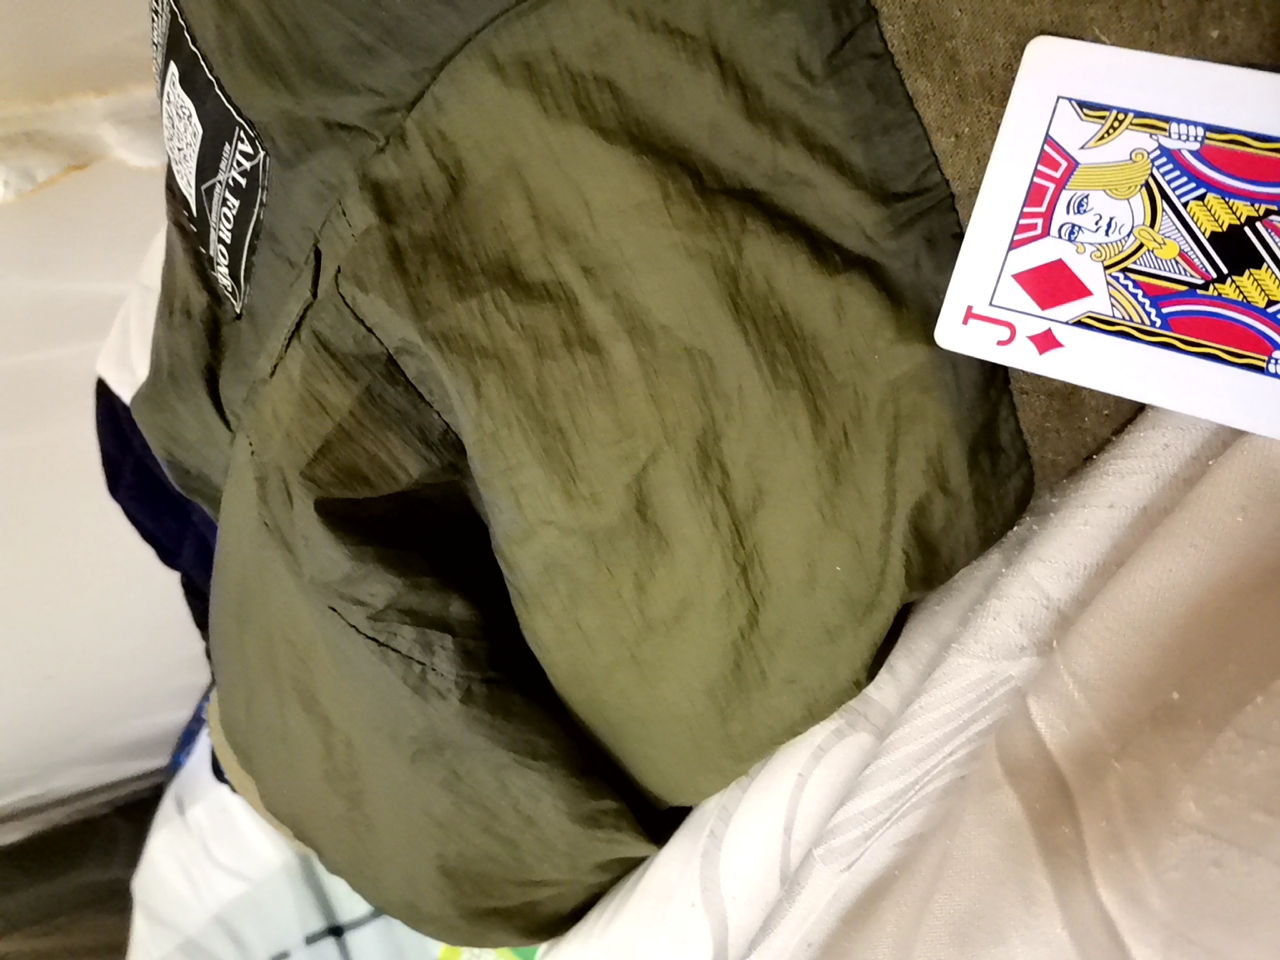fk j: (921, 61, 1280, 507)
